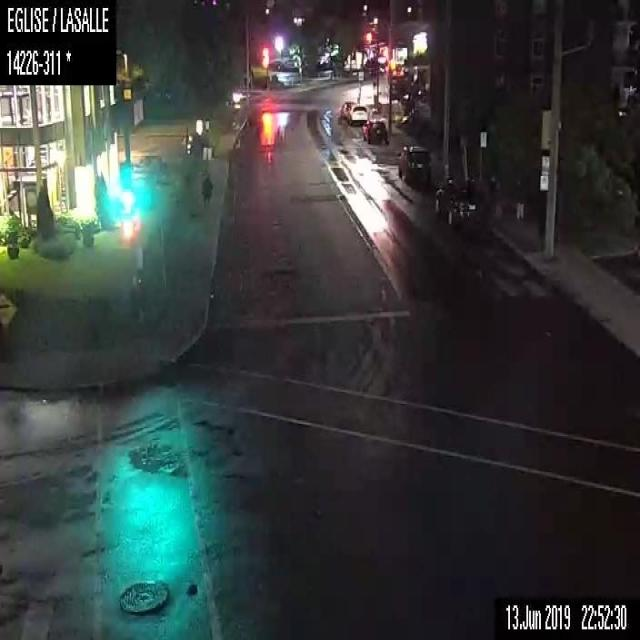pedestrian: (484, 172, 500, 221), (200, 172, 214, 212), (512, 176, 524, 220)
vehicle: (432, 178, 485, 230), (397, 143, 430, 181), (363, 118, 388, 145), (348, 103, 370, 124), (340, 100, 355, 119)
